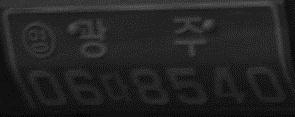0: (246, 64, 285, 104), (28, 70, 66, 106)
4: (209, 65, 242, 103)
5: (169, 66, 207, 105)
6: (66, 68, 101, 107)
8: (131, 66, 167, 106)
광주_D: (72, 16, 208, 58)
다: (101, 71, 130, 102)
영: (21, 20, 58, 59)
